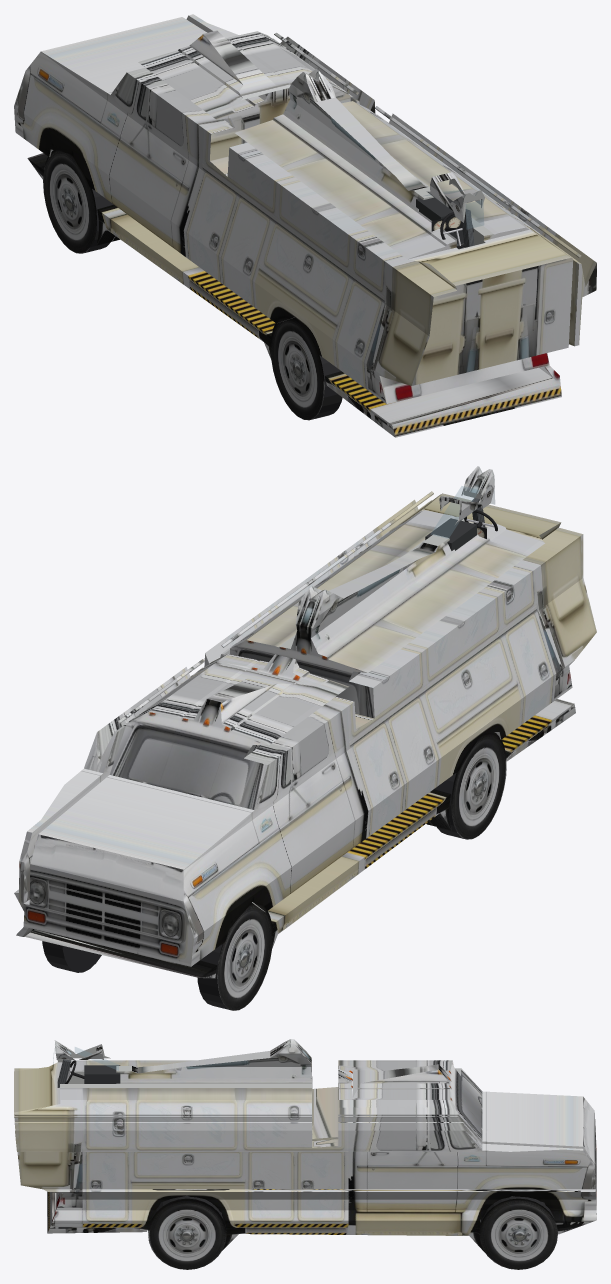
Rendered from utility_bucket_truck.glb.
3 renders of one model, top to bottom at view 1: azimuth 30°, elevation 25°; view 2: azimuth 150°, elevation 25°; view 3: azimuth 270°, elevation 25°, orthographic. The views are drawn at different scales.
Visible parts, largest first — view 1: utility_bucket_truck, wheel_BL, wheel_FL, utility_bucket_truck_cabin; view 2: utility_bucket_truck, wheel_FL, wheel_BL, utility_bucket_truck_cabin, wheel_FR; view 3: utility_bucket_truck, wheel_FR, wheel_BR, utility_bucket_truck_cabin.
Part boxes in pixels (x1,y1,x2,y2): utility_bucket_truck: (14, 14, 596, 437); wheel_BL: (270, 317, 342, 420); wheel_FL: (43, 150, 113, 253); utility_bucket_truck_cabin: (416, 190, 483, 249); utility_bucket_truck: (14, 466, 596, 978); wheel_FL: (197, 903, 272, 1010); wheel_BL: (434, 732, 506, 839); utility_bucket_truck_cabin: (425, 486, 497, 550); wheel_FR: (42, 941, 101, 972); utility_bucket_truck: (14, 1039, 596, 1252); wheel_FR: (479, 1196, 557, 1269); wheel_BR: (148, 1195, 226, 1269); utility_bucket_truck_cabin: (53, 1047, 120, 1087).
Bounding box in the file's own units: 2.38 × 3.34 × 8.91.
11 materials, 4 textured.
